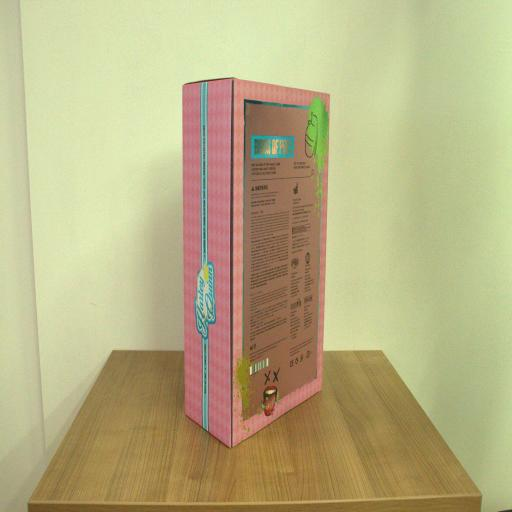Harley: (182, 78, 328, 448)
